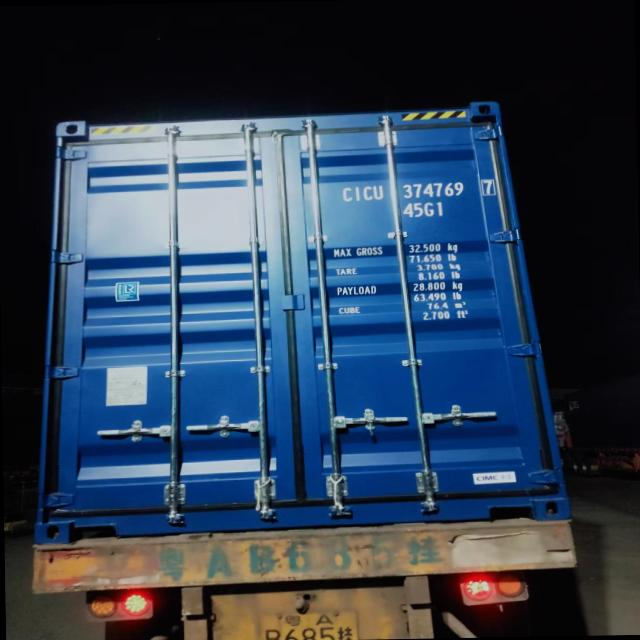seal: (360, 404, 381, 443)
